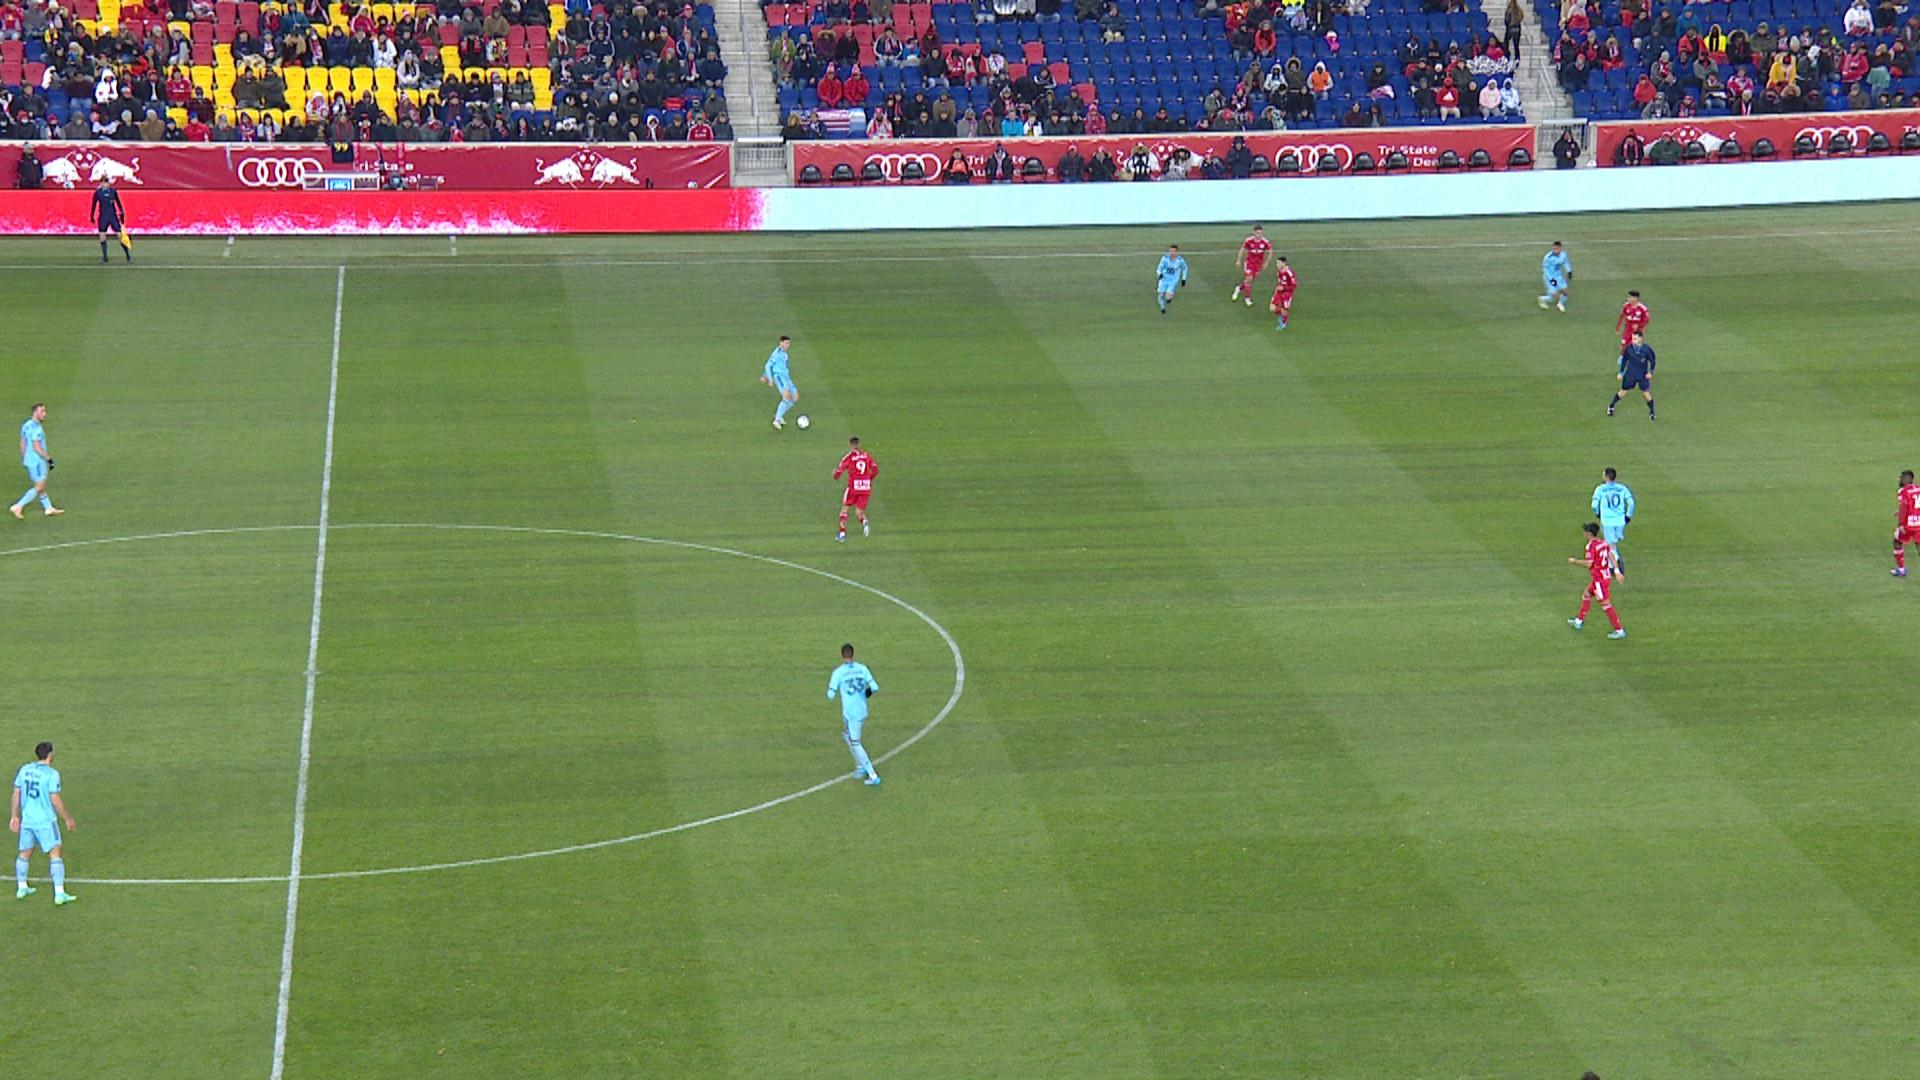football: (795, 413, 811, 430)
